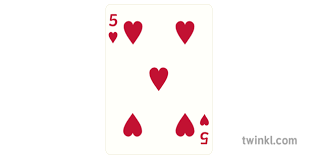five of hearts: (104, 4, 213, 157)
